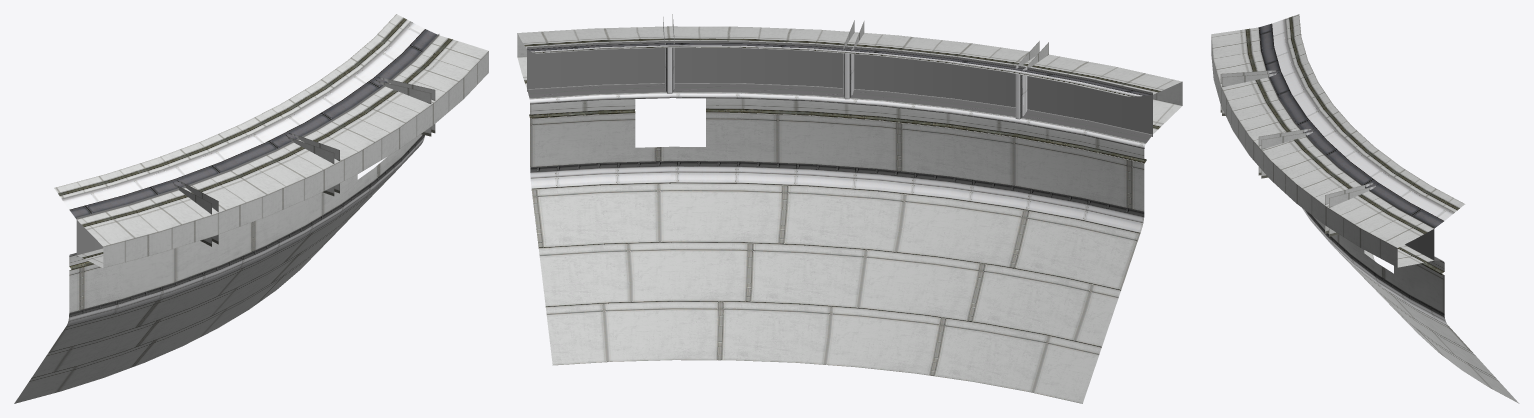
File: Club_Shell_02.FBX
The picture shows the model from 3 angles, left to right: view 1: azimuth 30°, elevation 25°; view 2: azimuth 150°, elevation 25°; view 3: azimuth 270°, elevation 25°; orthographic projection. The views are drawn at different scales.
Visible parts, largest first — view 1: Club_Shell_02; view 2: Club_Shell_02; view 3: Club_Shell_02.
Boxes of the visible parts, <box> form: Club_Shell_02: <box>14,14,488,403</box>; Club_Shell_02: <box>517,14,1182,403</box>; Club_Shell_02: <box>1211,14,1519,403</box>.
Bounding box in the file's own units: 53.35 × 25.52 × 32.5.
